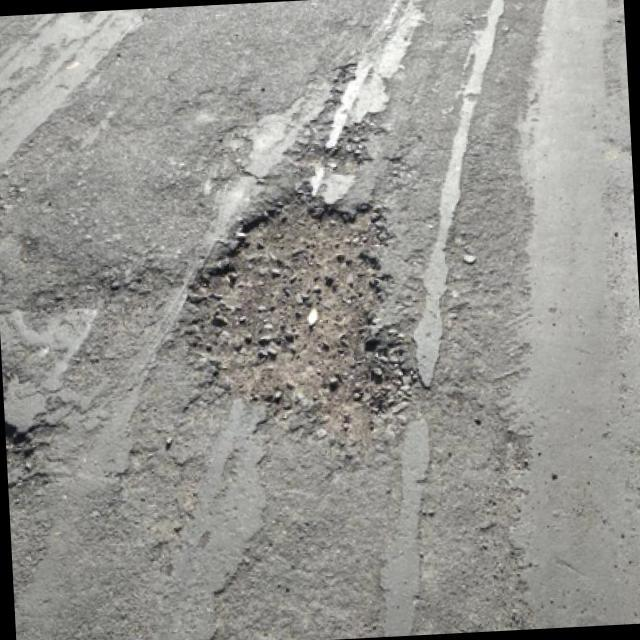Pothole: (180, 183, 417, 467)
